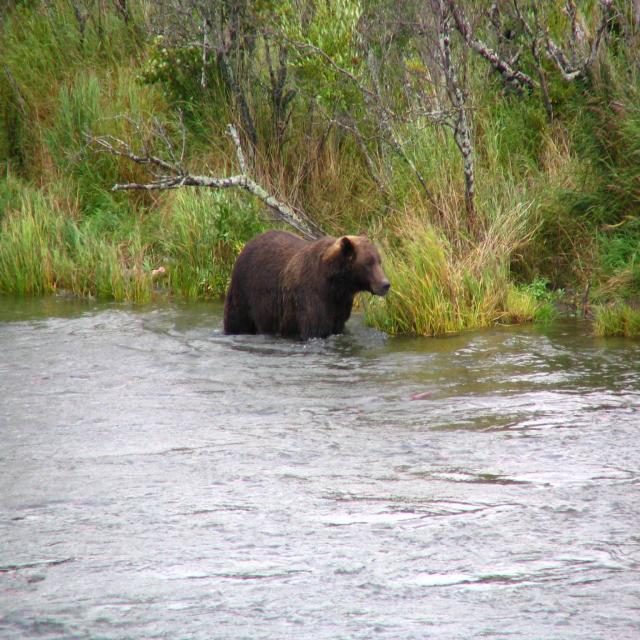bear face: (228, 231, 393, 338)
